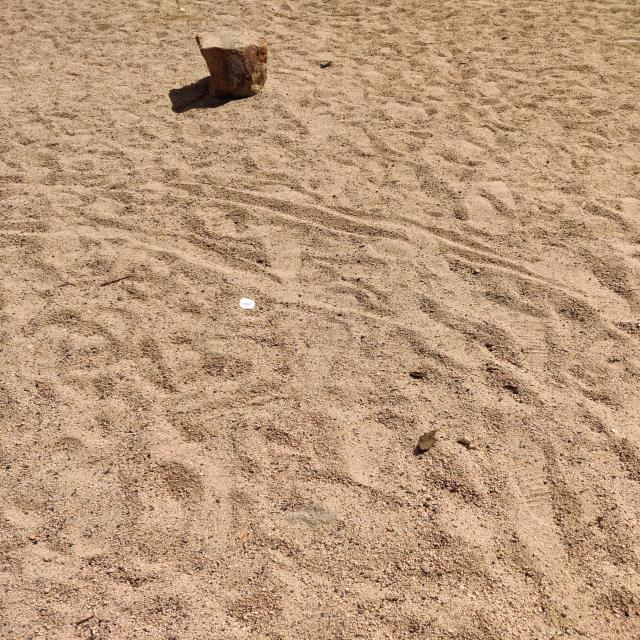litter: (240, 298, 255, 309), (238, 531, 247, 539)
